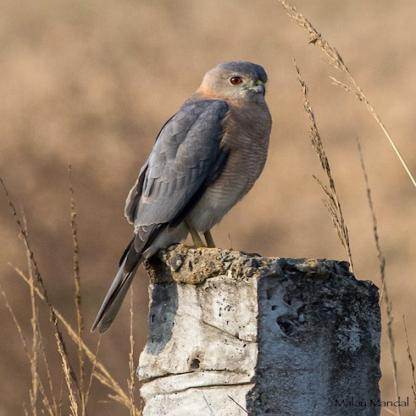Burung: (87, 61, 273, 334)
